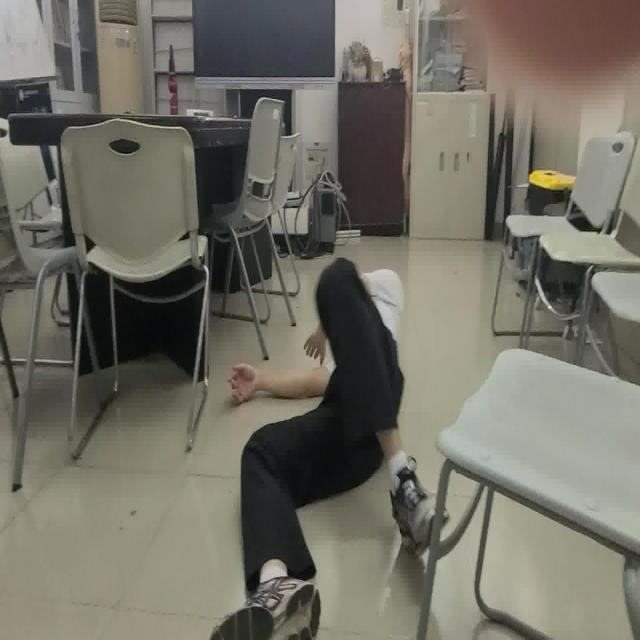Fall-Detected: (209, 253, 450, 640)
